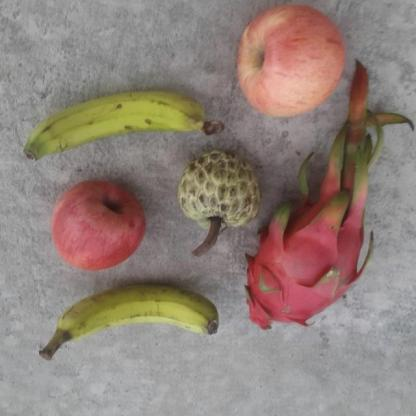annona: (178, 149, 262, 233)
apple: (222, 0, 348, 118), (50, 178, 146, 272)
banana: (36, 281, 221, 359), (23, 87, 207, 160)
pitaya: (246, 199, 370, 332)
